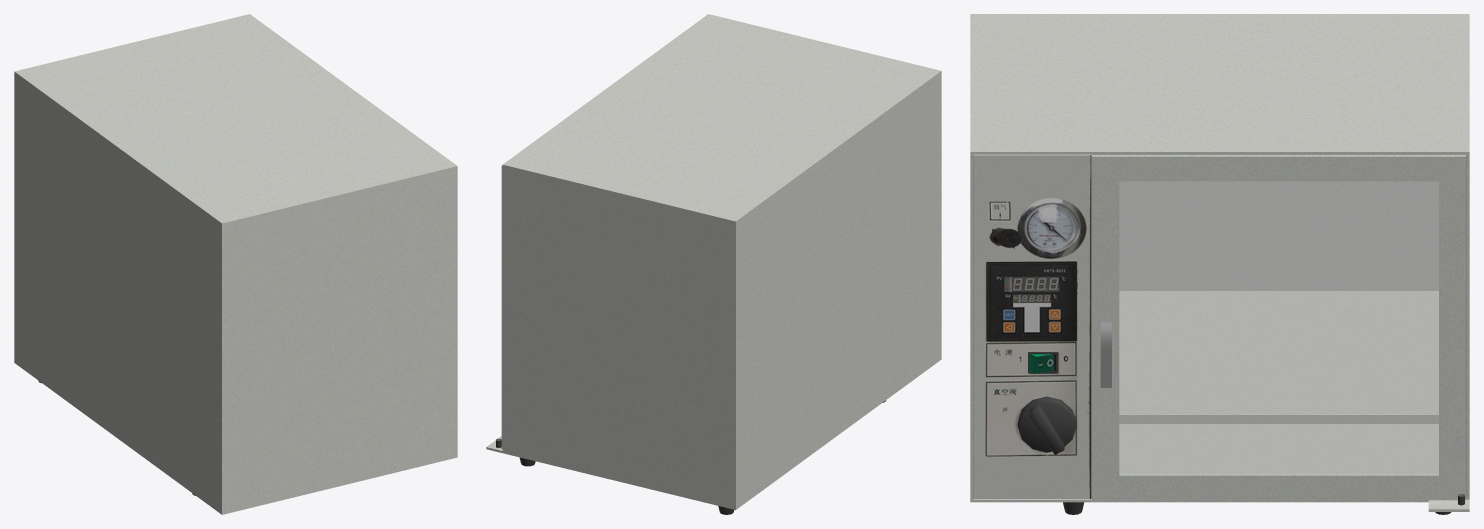
The model's file is SM_恒温干燥箱.fbx.
The picture shows the model from 3 angles, left to right: view 1: azimuth 30°, elevation 25°; view 2: azimuth 150°, elevation 25°; view 3: azimuth 270°, elevation 25°; orthographic projection. The views are drawn at different scales.
Visible parts, largest first — view 1: SM_恒温干燥箱_主体; view 2: SM_恒温干燥箱_主体, SM_恒温干燥箱_门; view 3: SM_恒温干燥箱_主体, SM_恒温干燥箱_门.
Boxes of the visible parts, x1,y1,x2,y2 form: SM_恒温干燥箱_主体: [14, 14, 457, 514]; SM_恒温干燥箱_主体: [486, 14, 941, 514]; SM_恒温干燥箱_门: [501, 165, 502, 448]; SM_恒温干燥箱_主体: [970, 14, 1469, 514]; SM_恒温干燥箱_门: [1092, 155, 1465, 500].
Bounding box in the file's own units: 536 × 621 × 764.
